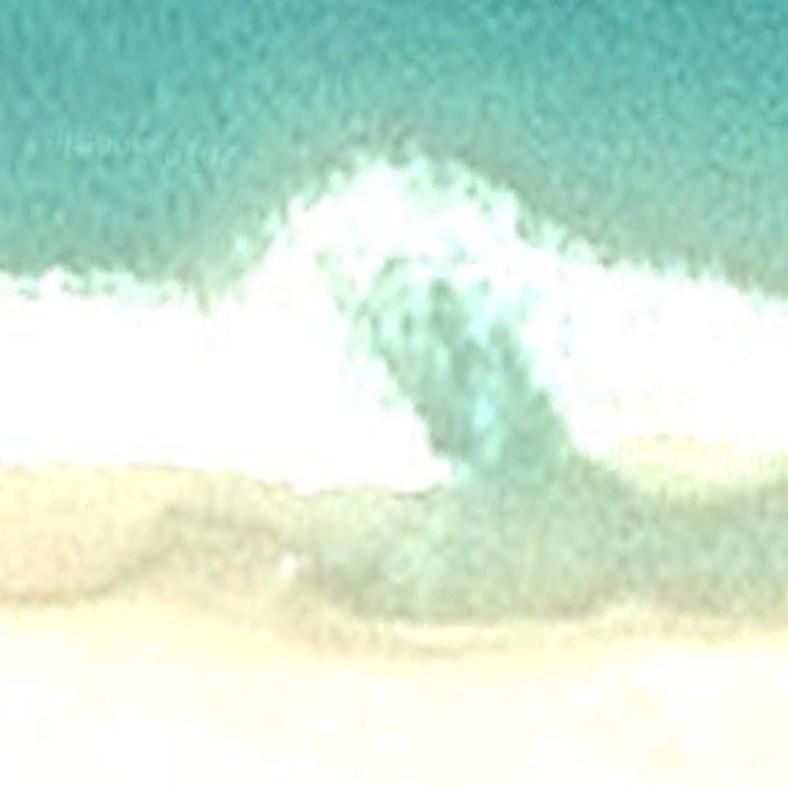rip_current: (304, 134, 606, 569)
